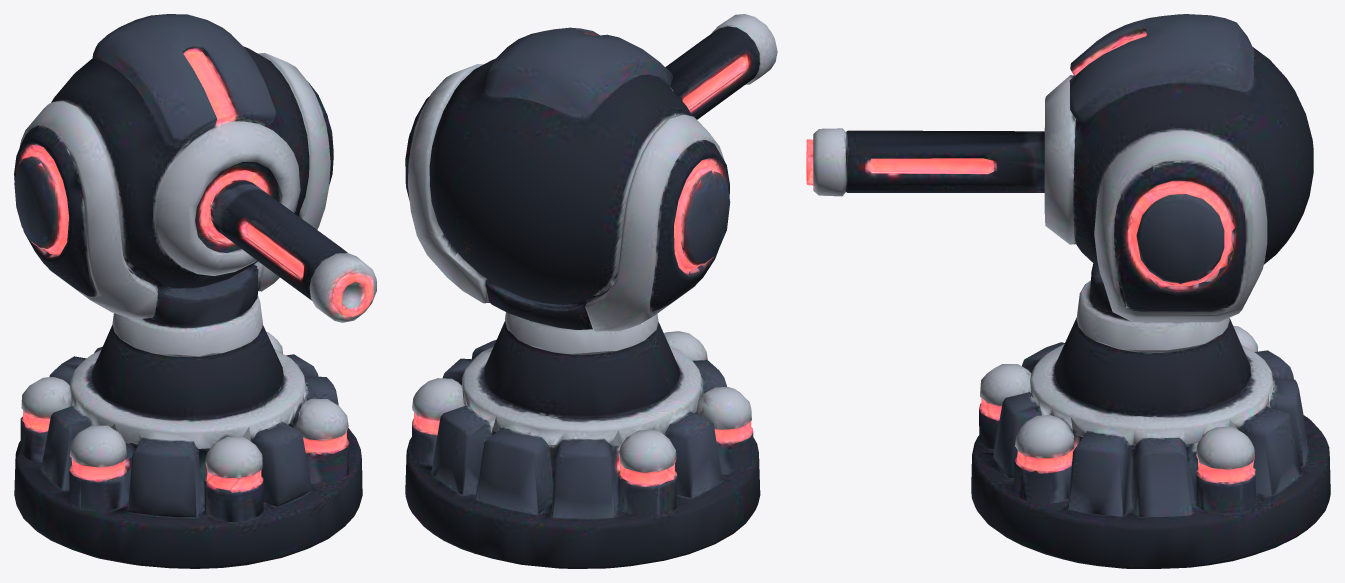
File: warrior-5-tier-1.glb
The picture shows the model from 3 angles, left to right: view 1: azimuth 30°, elevation 25°; view 2: azimuth 150°, elevation 25°; view 3: azimuth 270°, elevation 25°; orthographic projection. The views are drawn at different scales.
Visible parts, largest first — view 1: moving-assembly, fixed-platform; view 2: moving-assembly, fixed-platform; view 3: moving-assembly, fixed-platform.
Part boxes in pixels (bbox=[...]): moving-assembly: bbox=[14, 14, 376, 356]; fixed-platform: bbox=[14, 324, 362, 568]; moving-assembly: bbox=[405, 14, 777, 353]; fixed-platform: bbox=[405, 320, 760, 568]; moving-assembly: bbox=[806, 14, 1313, 350]; fixed-platform: bbox=[971, 318, 1330, 568].
Size of the model in its own units: 0.5935 by 0.8699 by 0.868.
1 material, 1 textured.
